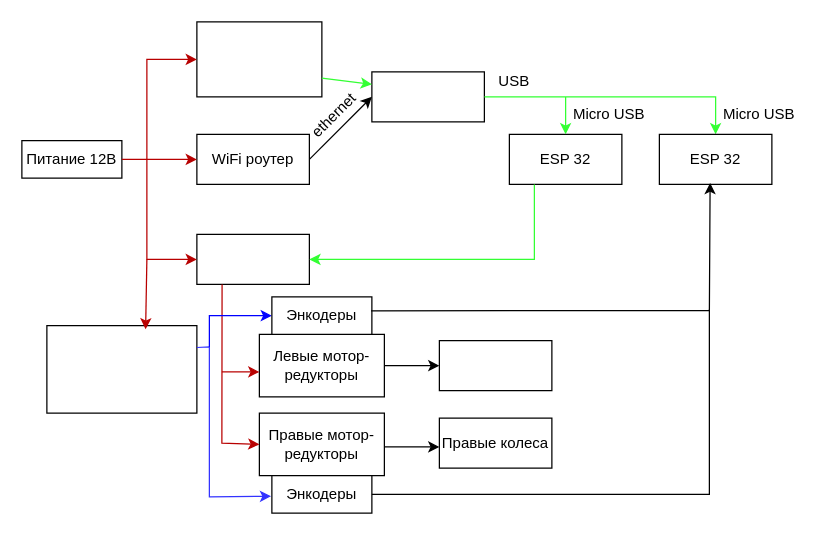
Some shapes in this 819 by 535 pixel diagram are drawn without their labels. The shapes that lost their labels are listed below. From the top down, each one's box as (x1, y1, x2, y2) in pixels, then its label:
(196, 21, 322, 97): Понижающий преобразователь напряжения 5В
(371, 71, 484, 122): Raspberry Pi 5
(196, 233, 309, 284): Драйвер двигателей
(46, 324, 197, 413): Понижающий преобразователь напряжения 3,3В
(438, 339, 552, 391): Левые колеса
